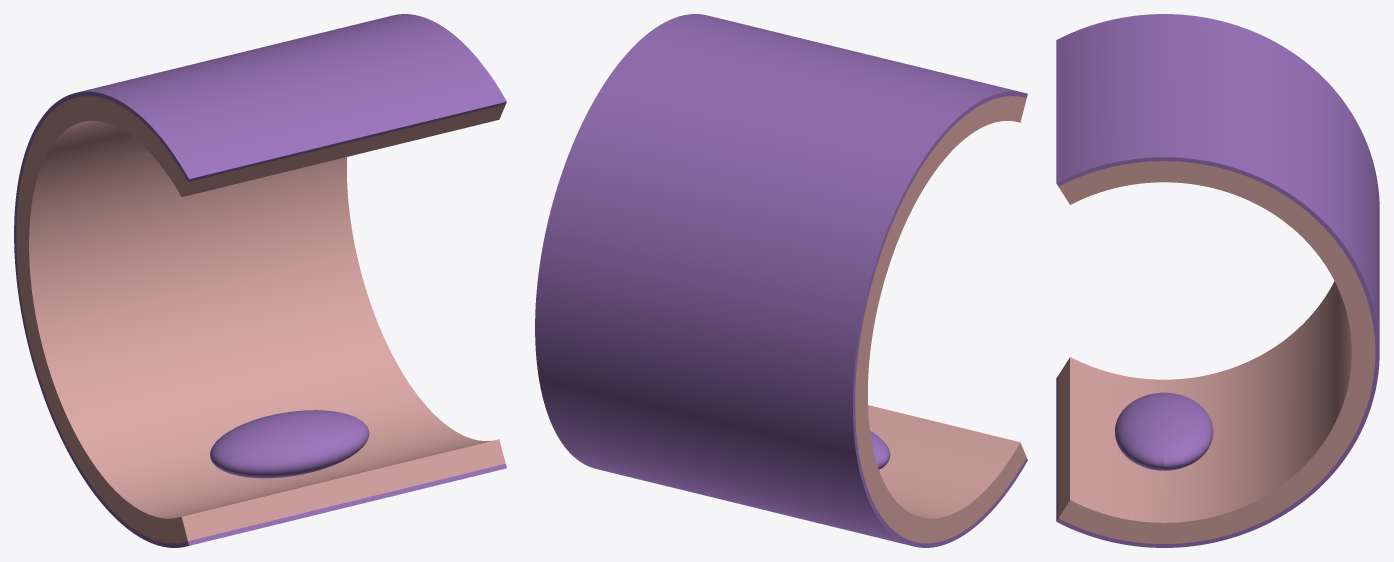
The model's file is bio3d2-capillary.glb.
The picture shows the model from 3 angles, left to right: view 1: azimuth 30°, elevation 25°; view 2: azimuth 150°, elevation 25°; view 3: azimuth 270°, elevation 25°; orthographic projection. The views are drawn at different scales.
Parts seen in each view (by area): view 1: Endothelial wall (display thickness), Basal lamina (display thickness), Endothelial nucleus bulging into lumen (illustrative); view 2: Basal lamina (display thickness), Endothelial wall (display thickness); view 3: Endothelial wall (display thickness), Basal lamina (display thickness), Endothelial nucleus bulging into lumen (illustrative).
Part boxes in pixels (x1,y1,x2,y2): Endothelial wall (display thickness): [16, 96, 505, 543]; Basal lamina (display thickness): [14, 14, 506, 547]; Endothelial nucleus bulging into lumen (illustrative): [210, 410, 369, 478]; Basal lamina (display thickness): [535, 14, 1027, 547]; Endothelial wall (display thickness): [855, 96, 1026, 543]; Endothelial wall (display thickness): [1058, 161, 1375, 543]; Basal lamina (display thickness): [1056, 14, 1379, 547]; Endothelial nucleus bulging into lumen (illustrative): [1115, 392, 1213, 470].
Size of the model in its own units: 5.5 by 7 by 5.25.
